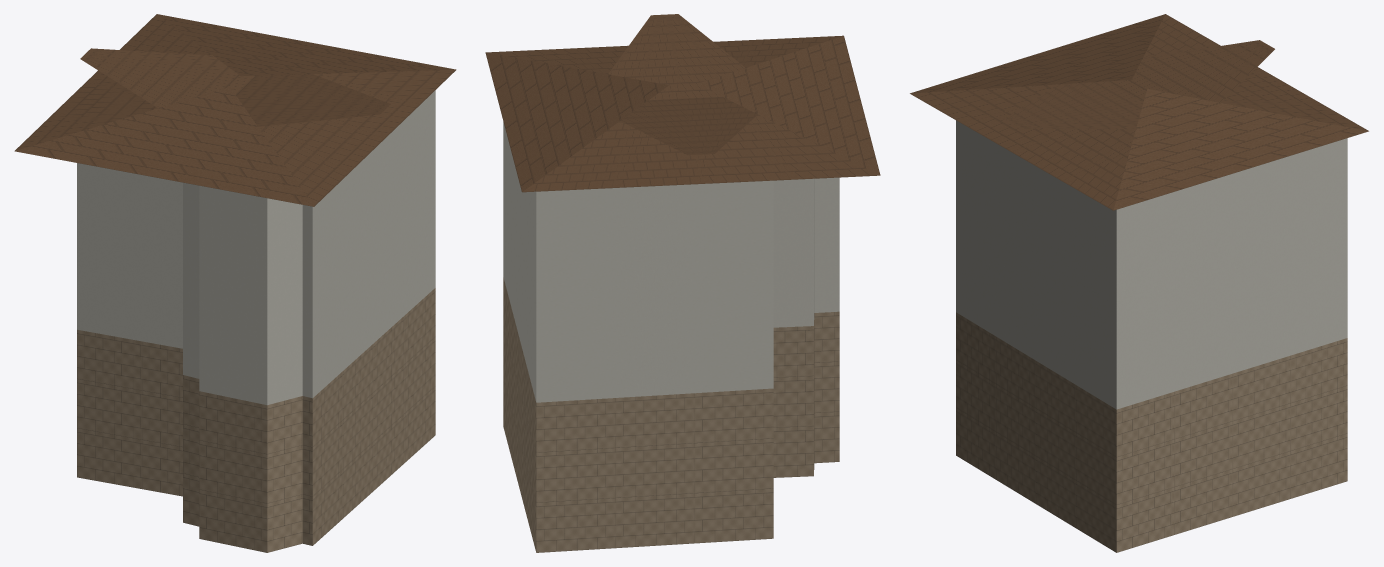
The model's file is bld_c39_46_196.gltf.
3 renders of one model, left to right at view 1: azimuth 30°, elevation 25°; view 2: azimuth 150°, elevation 25°; view 3: azimuth 270°, elevation 25°, orthographic. The views are drawn at different scales.
Visible parts, largest first — view 1: bld_c39_46_196; view 2: bld_c39_46_196; view 3: bld_c39_46_196.
Part boxes in pixels (bbox=[...]): bld_c39_46_196: bbox=[14, 14, 456, 552]; bld_c39_46_196: bbox=[485, 14, 880, 552]; bld_c39_46_196: bbox=[910, 14, 1368, 552].
Bounding box in the file's own units: 15.01 × 13.5 × 14.83.
Materials: 3 (3 with a texture image).
